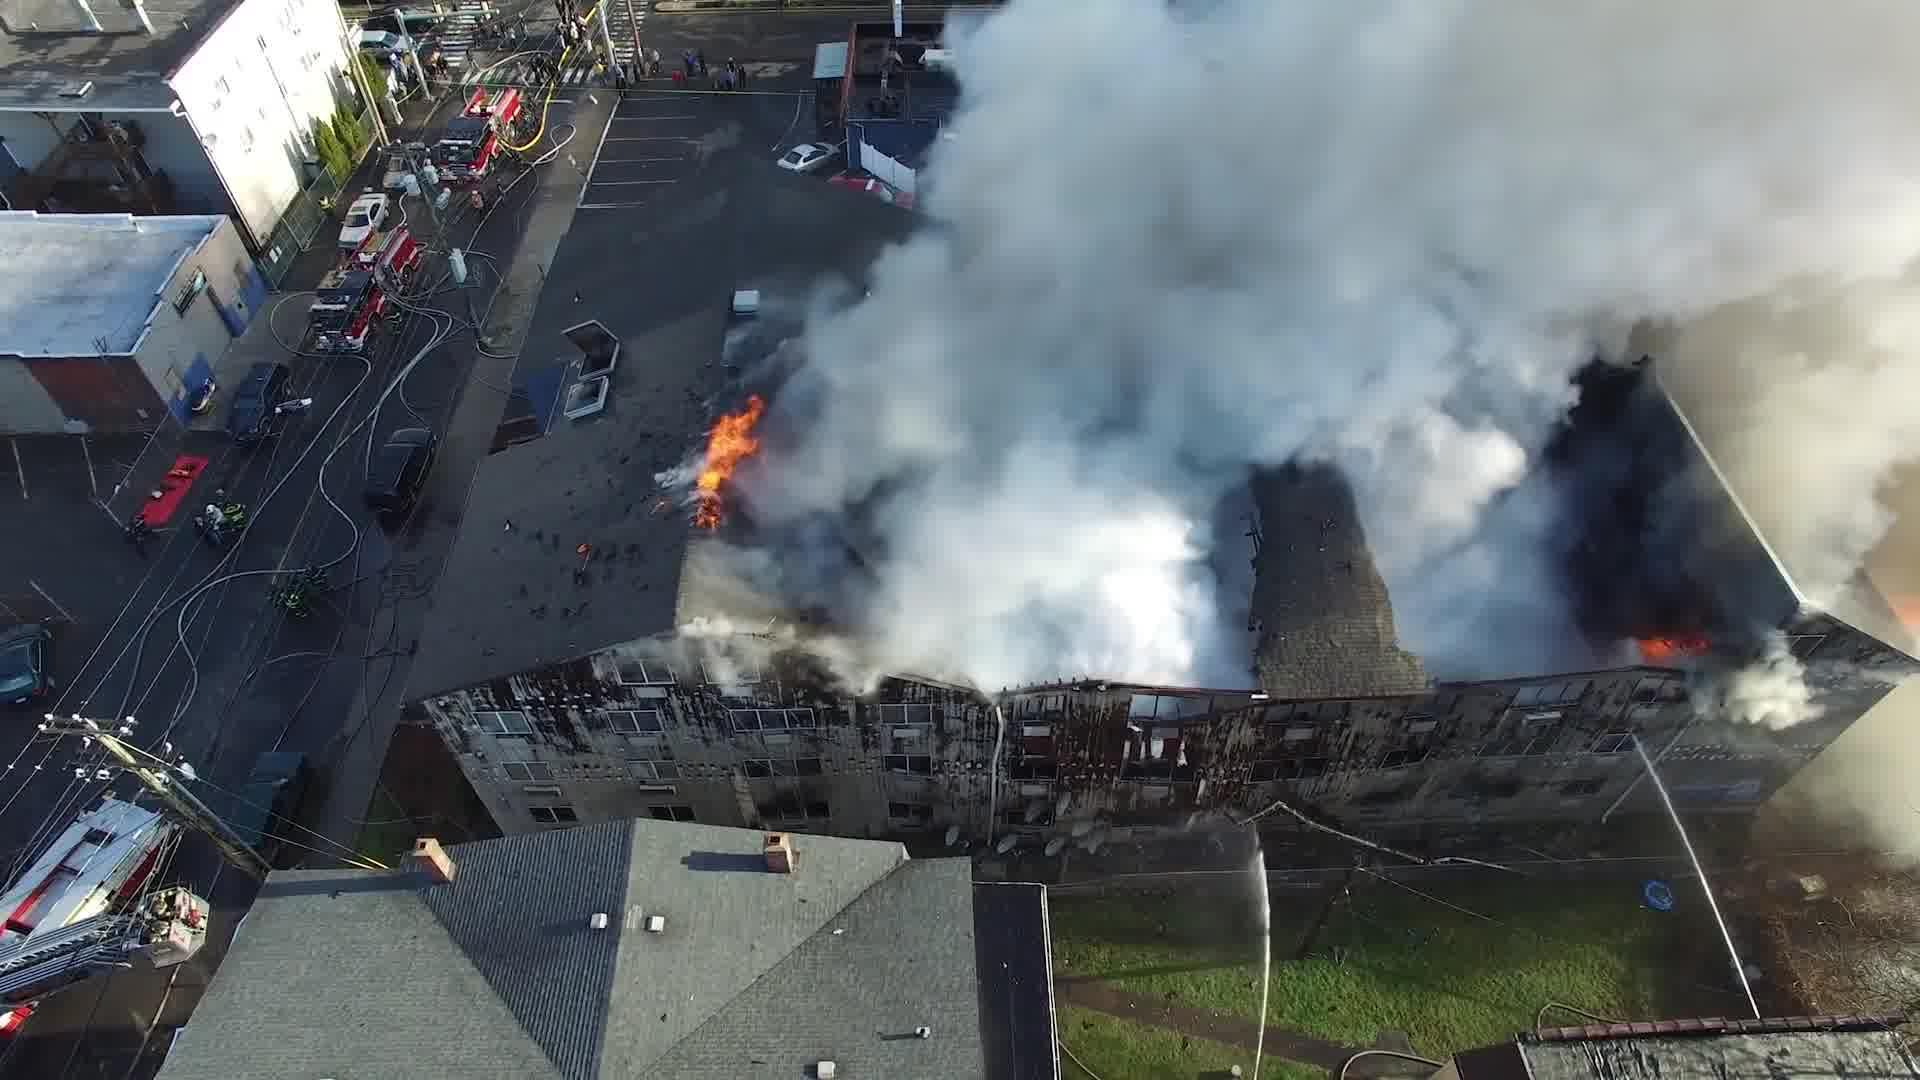smoke: (960, 34, 1916, 484), (868, 514, 1193, 658)
